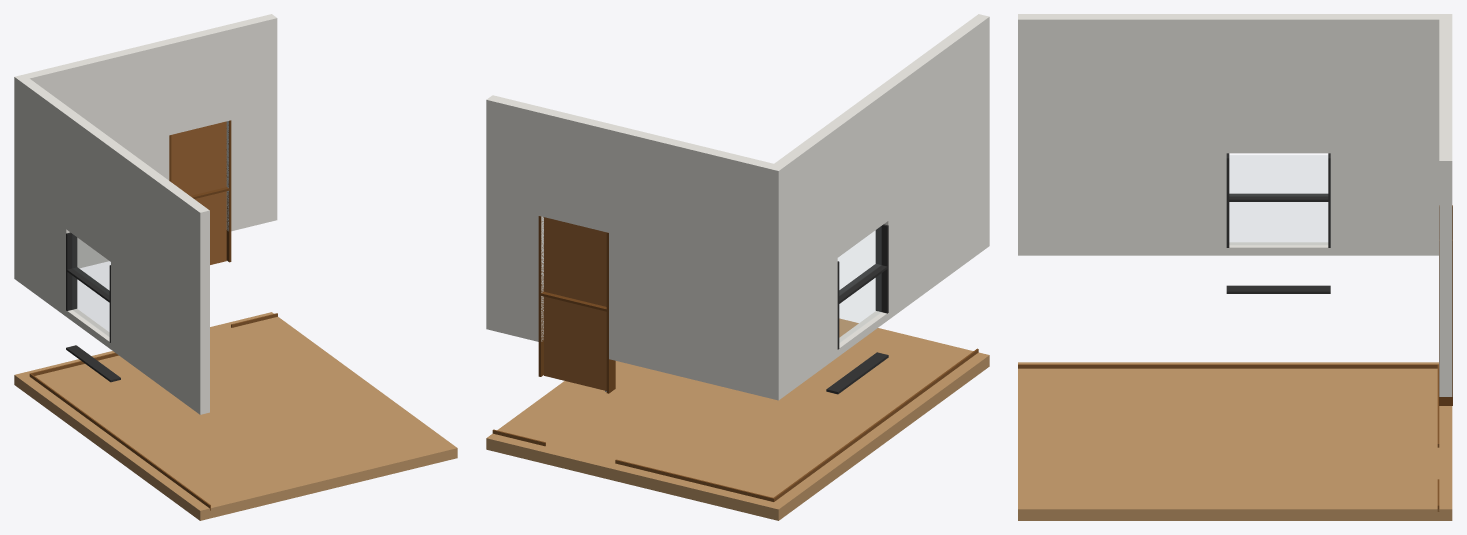
File: room_cutaway_20m2_opt.glb
3 views of the same model, side by side, from view 1: azimuth 30°, elevation 25°; view 2: azimuth 150°, elevation 25°; view 3: azimuth 270°, elevation 25° (orthographic). The views are drawn at different scales.
Parts seen in each view (by area): view 1: back_wall, win_glass, win_frame_b; view 2: back_wall, win_glass, win_frame_b; view 3: back_wall, win_glass, win_frame_b.
Part boxes in pixels (x1,y1,x2,y2): back_wall: [14, 14, 457, 520]; win_glass: [73, 235, 110, 335]; win_frame_b: [66, 232, 120, 382]; back_wall: [486, 14, 989, 520]; win_glass: [838, 227, 880, 341]; win_frame_b: [826, 224, 888, 394]; back_wall: [1018, 14, 1452, 520]; win_glass: [1230, 155, 1327, 244]; win_frame_b: [1226, 153, 1330, 293].
Bounding box in the file's own units: 4 × 4.57 × 5.01.
3 materials, 3 textured.
